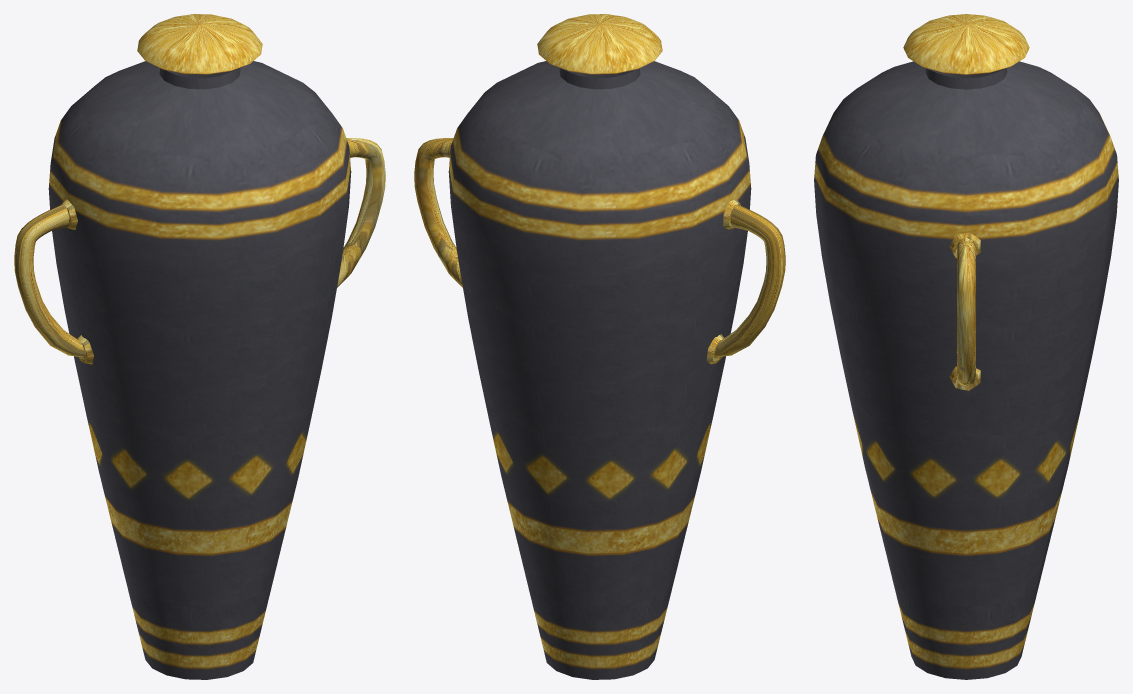
File: urn_blue_002.FBX
3 views of the same model, side by side, from view 1: azimuth 30°, elevation 25°; view 2: azimuth 150°, elevation 25°; view 3: azimuth 270°, elevation 25° (orthographic).
Parts seen in each view (by area): view 1: Line01, Line02, Line03; view 2: Line01, Line02, Line03; view 3: Line01, Line03.
Boxes of the visible parts, box(x1,y1,x2,y2) form: Line01: box(48, 14, 351, 679); Line02: box(14, 204, 85, 356); Line03: box(337, 138, 385, 287); Line01: box(448, 14, 751, 679); Line02: box(714, 204, 785, 356); Line03: box(414, 138, 462, 287); Line01: box(814, 14, 1118, 679); Line03: box(957, 237, 975, 387).
Bounding box in the file's own units: 71.83 × 118 × 51.33.
